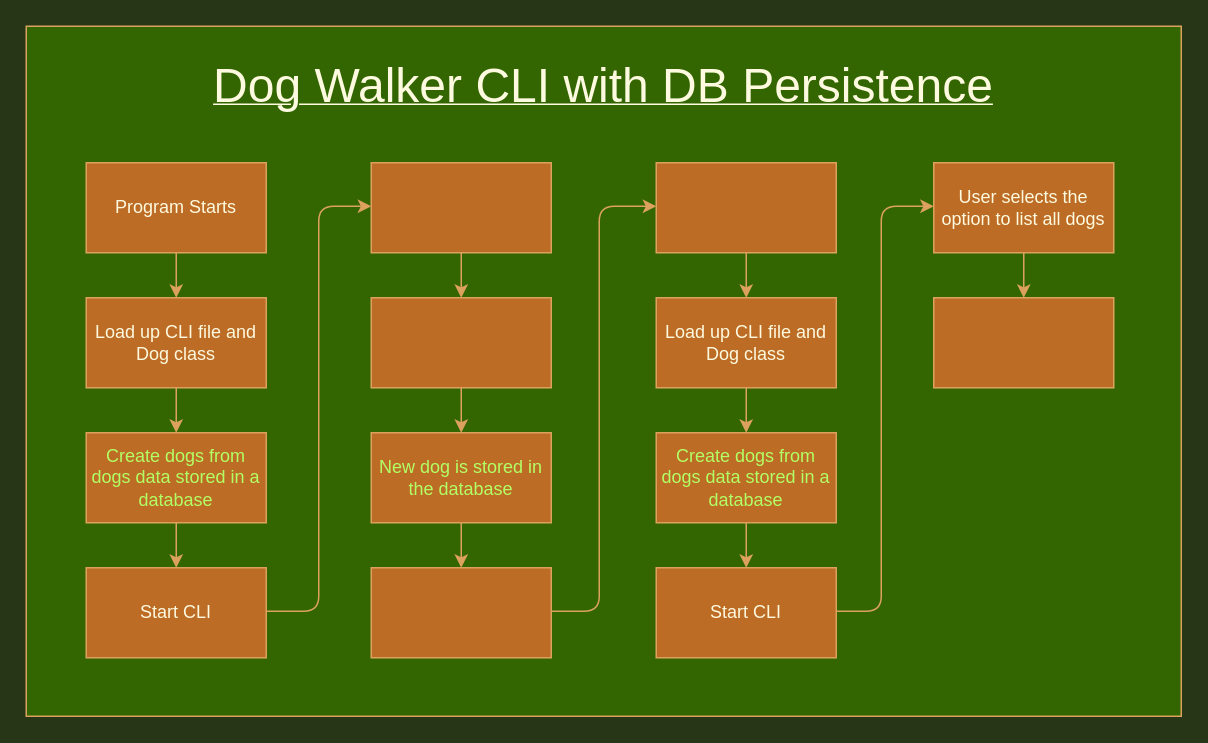
Some shapes in this 1208 by 743 pixel diagram are drawn without their labels. The centre of each missing label's shape, as x and y in pixels:
"Program starts again" goes at (x=745, y=207).
"the list now includes the dog they added last time!" goes at (x=1023, y=342).
"User exits the CLI" goes at (x=460, y=612).
"User fills in answers to the prompts for dog info" goes at (x=460, y=342).
"User selects the option to add a new dog" goes at (x=460, y=207).
